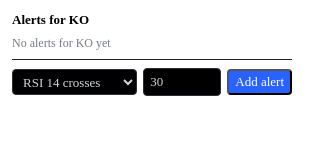
Test: Should add an alert when the price crosses one of the averages, or a move of the day
Later steps or results of the test are not shown.
Select "Price crosses average" in the dropdown named "Condition". click: point(75, 82)
box: x1=12 y1=69 x2=137 y2=95
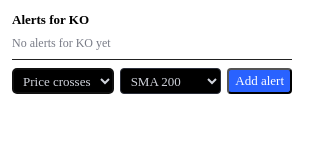
Select "SMA 200" in the dropdown named "Average". click: point(170, 81)
box: x1=120 y1=68 x2=221 y2=94
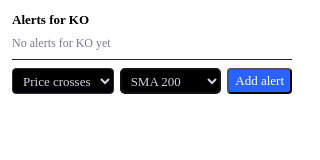
Click the button "Add alert". click: point(260, 81)
box: x1=227 y1=68 x2=292 y2=94
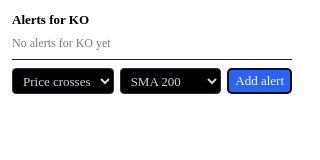
Select "Day move beyond %" in the dropdown named "Condition". click: point(63, 81)
box: x1=12 y1=68 x2=114 y2=94
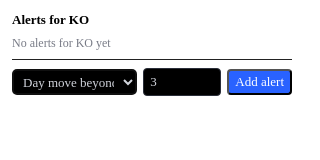
Expected: the number field named "Value" holds "3", x1=143 y1=68 x2=221 y2=96
